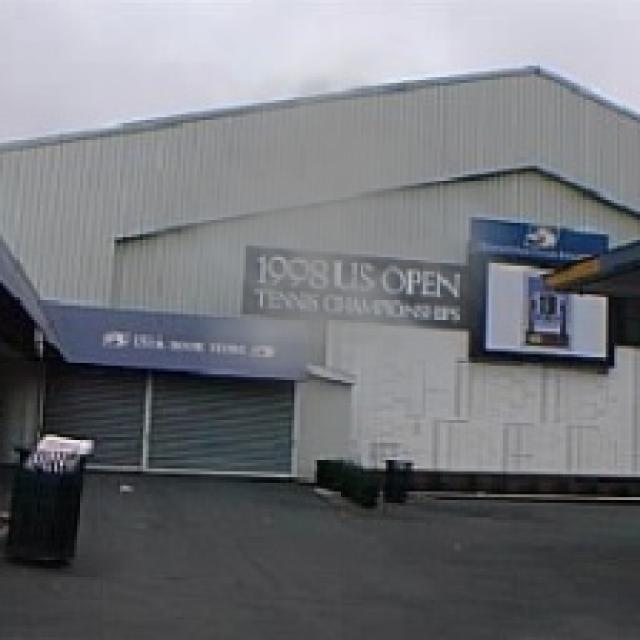Smoke: (126, 31, 532, 412)
